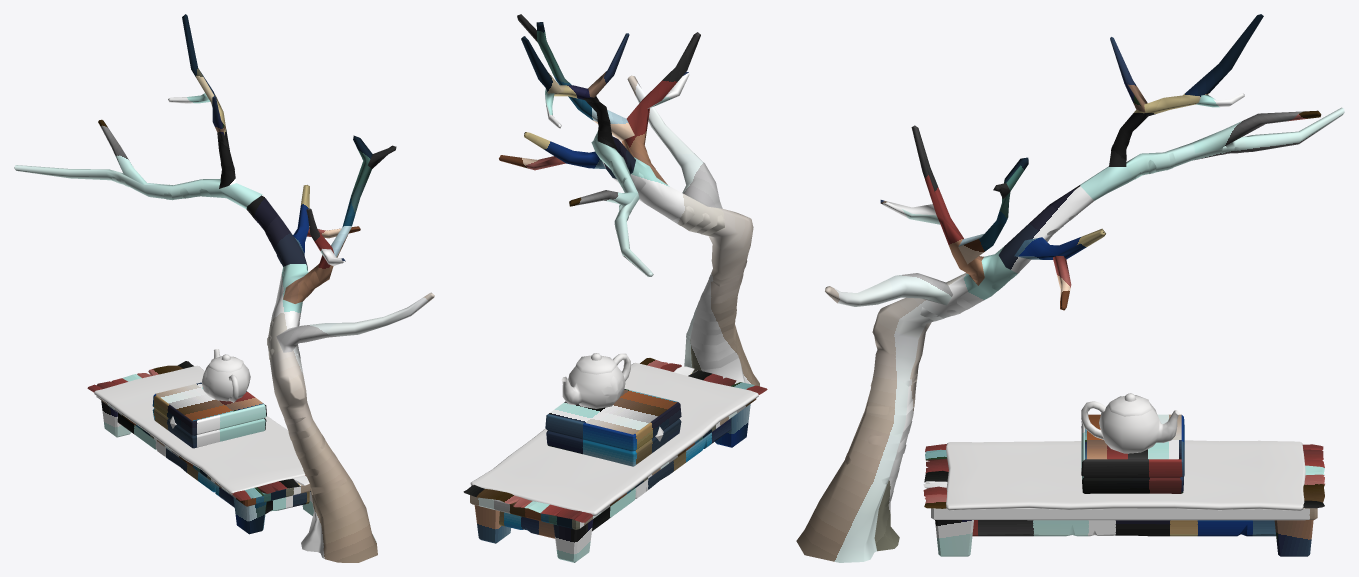
File: Prop_AP31BlossomTea.glb
3 views of the same model, side by side, from view 1: azimuth 30°, elevation 25°; view 2: azimuth 150°, elevation 25°; view 3: azimuth 270°, elevation 25° (orthographic). The views are drawn at different scales.
Visible parts, largest first — view 1: Prop_AP31BlossomTea; view 2: Prop_AP31BlossomTea; view 3: Prop_AP31BlossomTea.
Part boxes in pixels (x1,y1,x2,y2): Prop_AP31BlossomTea: (14, 14, 434, 562); Prop_AP31BlossomTea: (463, 14, 767, 562); Prop_AP31BlossomTea: (796, 14, 1344, 562).
Size of the model in its own units: 13.44 by 21.44 by 20.03.
1 material, 1 textured.
